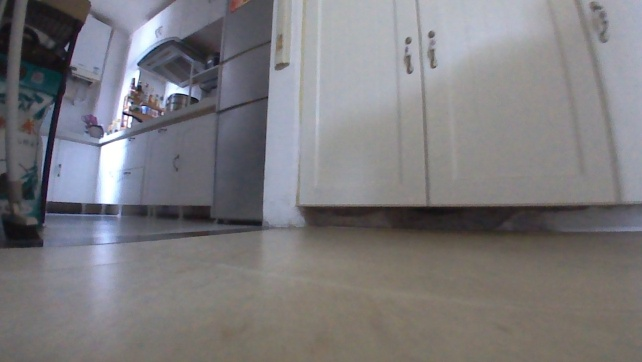cupboard: (43, 94, 216, 222)
refrigerator: (208, 0, 276, 230)
